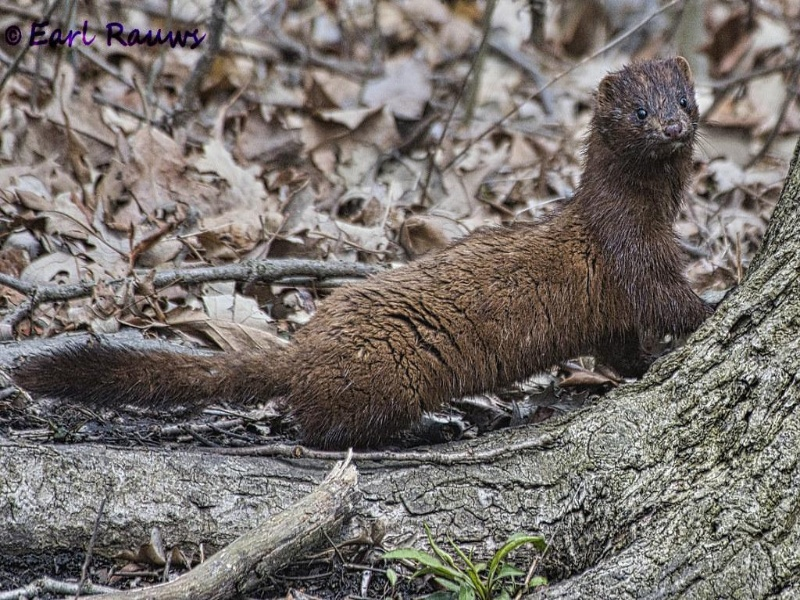minkish: (8, 54, 702, 451)
